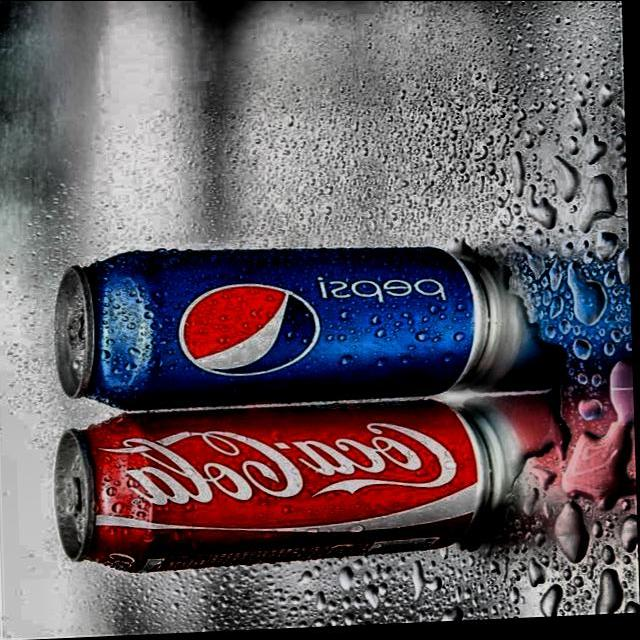litter: (44, 235, 503, 418), (45, 398, 497, 581)
